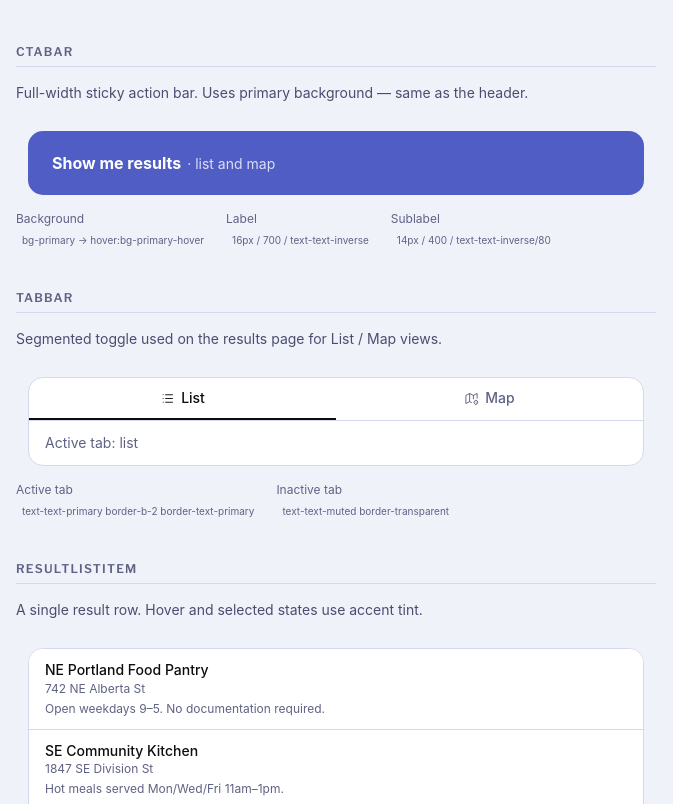
DesignSystemPage › switches the TabBar demo between List and Map
(page scrolled)
Expected: the text "Active tab: list" is shown, [45,434,138,451]
Click the tab "Map" at (490, 399), box [336,378,643,420]
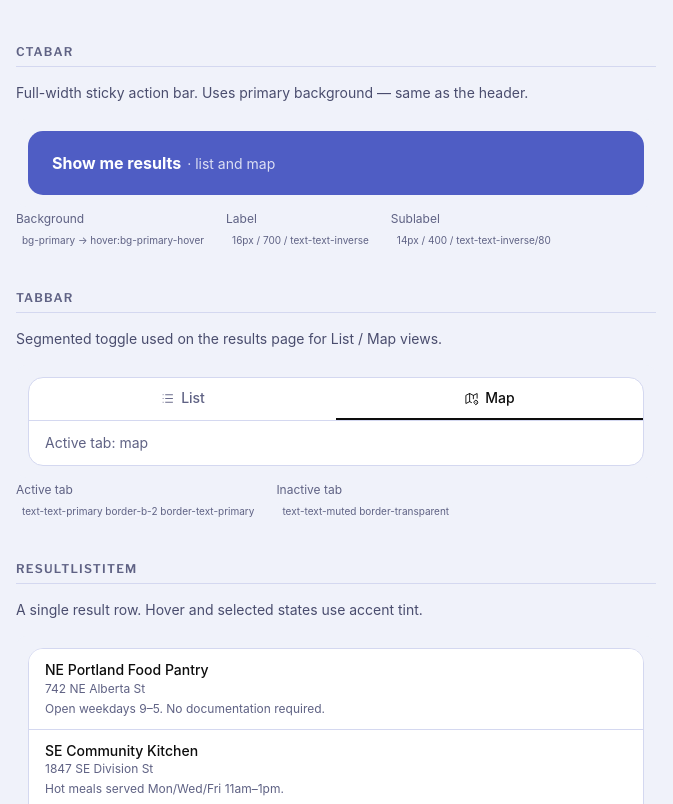
Expected: the text "Active tab: map" is shown, [45,434,148,451]
